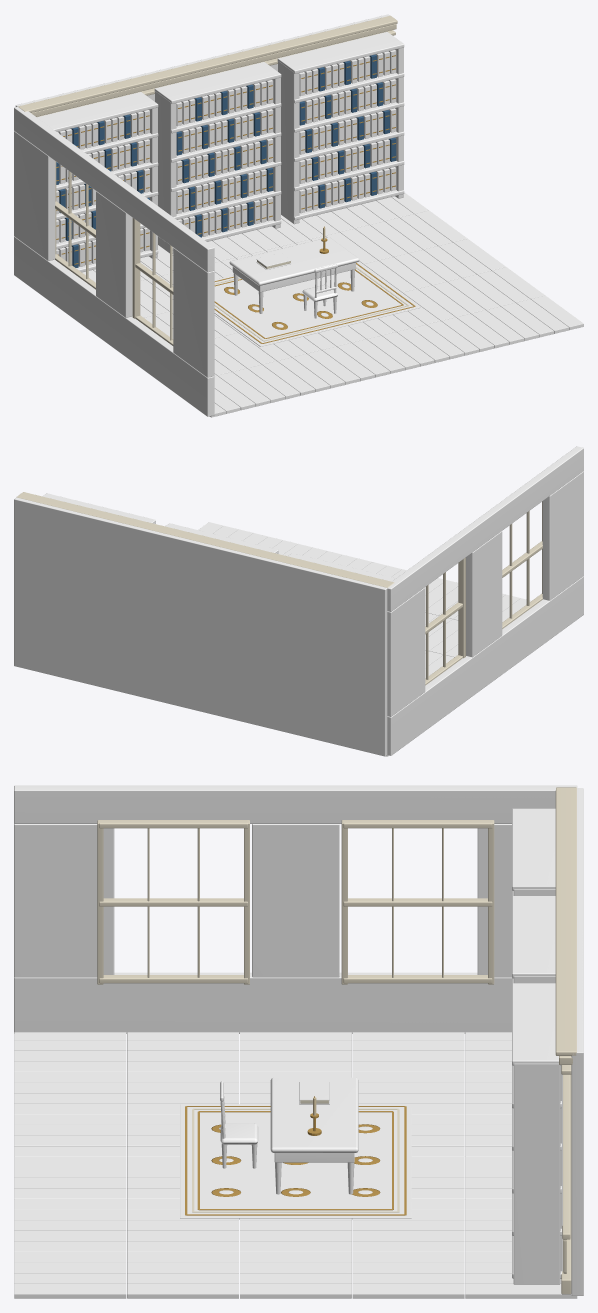
File: library.glb
3 renders of one model, top to bottom at view 1: azimuth 30°, elevation 25°; view 2: azimuth 150°, elevation 25°; view 3: azimuth 270°, elevation 25°, orthographic. The views are drawn at different scales.
Visible parts, largest first — view 1: Left wall sill, Woven carpet, Left wall lintel, Left wall pier, Left wall pier.002, Left wall pier.001, Back moulding.004, Mahogany tabletop, Bookcase pilaster.004, Library shelf.017, Library shelf.011, Bookcase pilaster.002 (+64 smaller); view 2: Back wall, Left wall sill, Left wall lintel, Left wall pier, Left wall pier.002, Left wall pier.001, Back moulding.004, Window casing.002, Library shelf.011, Library shelf.017, Library shelf.005, Individual oak floorboard.026; view 3: Left wall sill, Left wall lintel, Woven carpet, Left wall pier, Left wall pier.001, Bookcase pilaster.005, Back moulding.004, Mahogany tabletop, Back wall, Left wall pier.002, Library shelf.017, Library shelf.005 (+83 smaller).
Boxes of the visible parts, x1,y1,x2,y2 form: Left wall sill: (14, 236, 214, 416); Woven carpet: (214, 262, 420, 346); Left wall lintel: (14, 106, 214, 272); Left wall pier: (173, 248, 214, 377); Left wall pier.002: (14, 131, 55, 260); Left wall pier.001: (96, 191, 132, 317); Back moulding.004: (18, 15, 397, 112); Mahogany tabletop: (229, 237, 359, 285); Bookcase pilaster.004: (278, 61, 299, 224); Library shelf.017: (277, 32, 404, 73); Library shelf.011: (154, 62, 281, 103); Bookcase pilaster.002: (155, 91, 176, 253); Back wall: (14, 497, 387, 756); Left wall sill: (387, 576, 583, 755); Left wall lintel: (387, 446, 583, 611); Left wall pier: (542, 471, 583, 600); Left wall pier.002: (387, 587, 425, 716); Left wall pier.001: (466, 531, 502, 657); Back moulding.004: (16, 492, 394, 587); Window casing.002: (458, 557, 465, 658); Library shelf.011: (165, 523, 278, 553); Library shelf.017: (42, 493, 155, 523); Library shelf.005: (288, 553, 395, 581); Individual oak floorboard.026: (425, 619, 458, 650); Left wall sill: (14, 972, 511, 1033); Left wall lintel: (14, 785, 577, 823); Woven carpet: (180, 1104, 411, 1219); Left wall pier: (14, 824, 114, 977); Left wall pier.001: (252, 824, 339, 977); Bookcase pilaster.005: (513, 1063, 560, 1284); Back moulding.004: (555, 787, 576, 1055); Mahogany tabletop: (270, 1077, 358, 1152); Back wall: (571, 788, 583, 1295); Left wall pier.002: (477, 824, 511, 977); Library shelf.017: (512, 983, 561, 1065); Library shelf.005: (512, 808, 555, 890).
Bounding box in the file's own units: 10.1 × 4.35 × 9.1.
